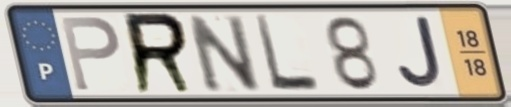8: (322, 14, 380, 93)
J: (395, 14, 445, 92)
L: (251, 13, 324, 94)
N: (182, 12, 265, 95)
P: (57, 14, 123, 94)
R: (120, 9, 198, 97)
